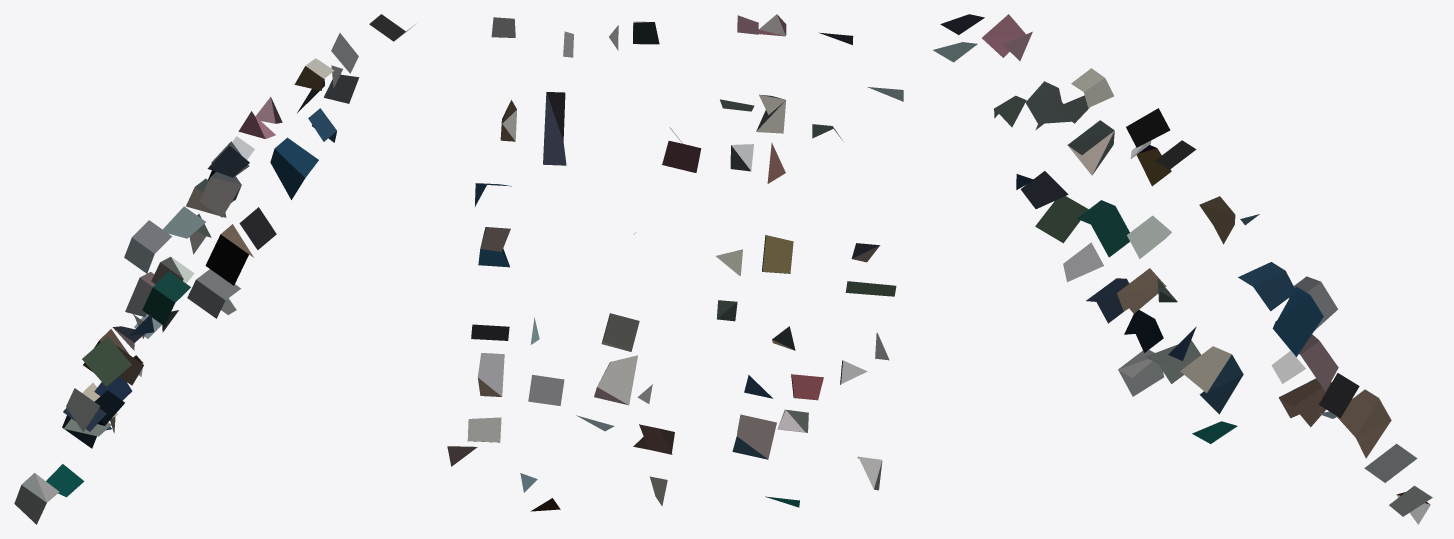
3 views of the same model, side by side, from view 1: azimuth 30°, elevation 25°; view 2: azimuth 150°, elevation 25°; view 3: azimuth 270°, elevation 25° (orthographic). The views are drawn at different scales.
Bounding box in the file's own units: 200 × 201 × 193.
